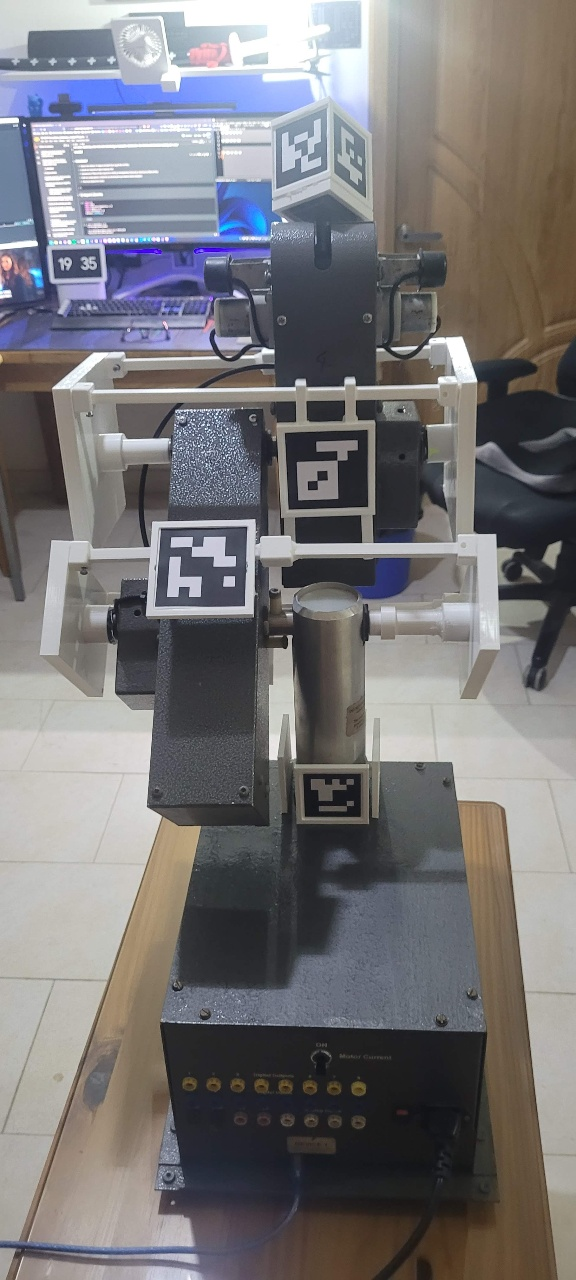Robot: (38, 96, 502, 829)
